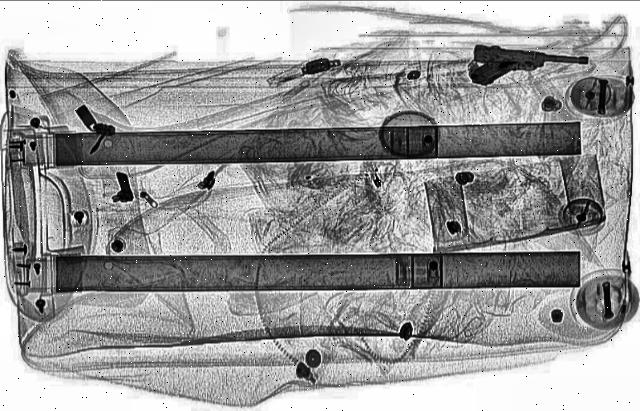Gun: (466, 46, 592, 97)
